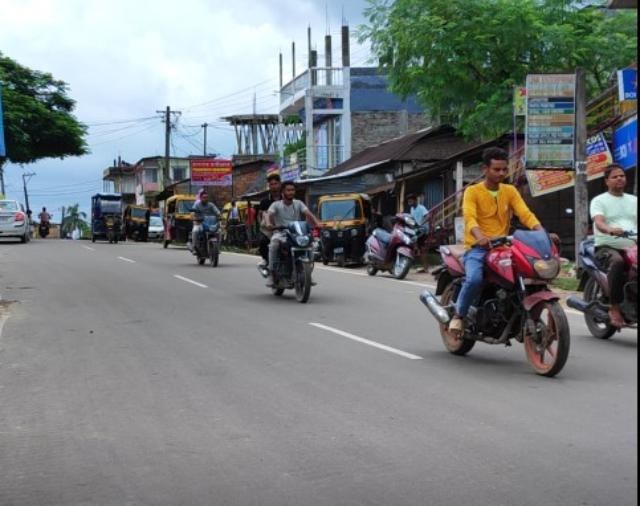licensePlate: (522, 278, 557, 286)
motorcycle: (421, 139, 571, 377), (571, 160, 640, 346), (261, 167, 319, 305), (189, 187, 223, 268)
withoutHelmet: (484, 144, 511, 185), (603, 164, 629, 194), (283, 181, 301, 200), (266, 172, 280, 196), (200, 193, 211, 203)
